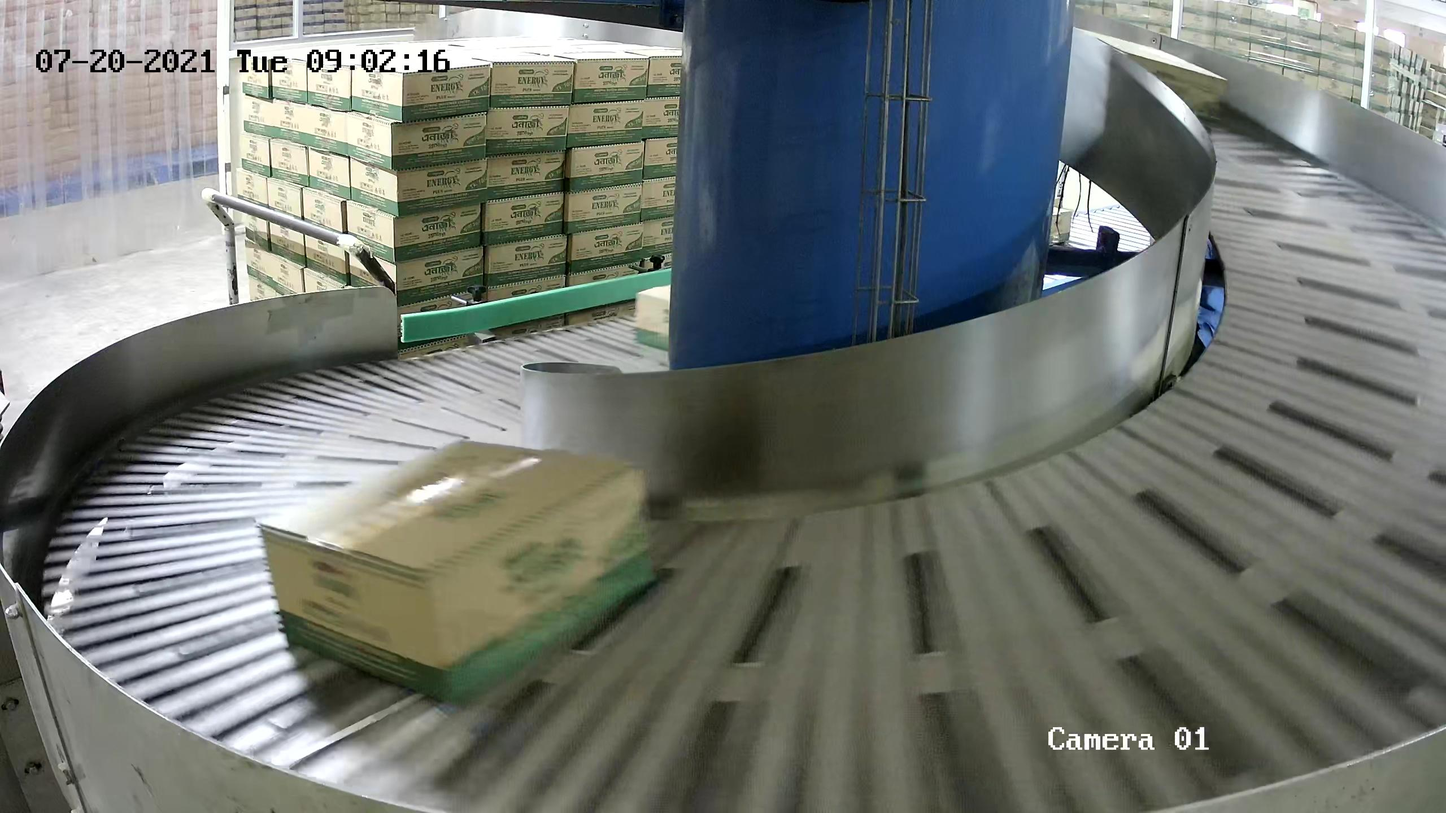Box: (255, 437, 661, 710), (1067, 25, 1228, 139), (634, 269, 770, 362)
